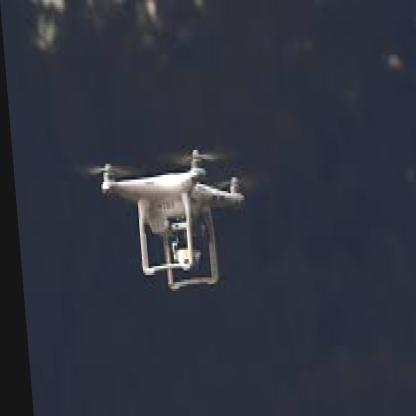UAS: (71, 148, 250, 291)
